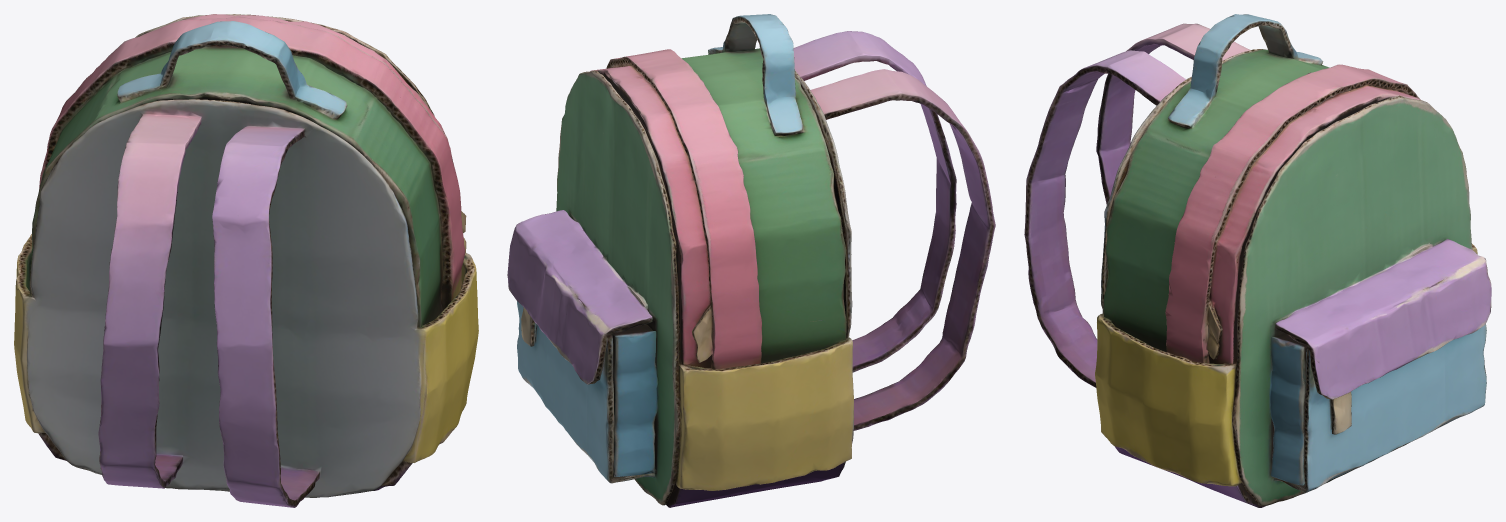
File: mochila 2.glb
The picture shows the model from 3 angles, left to right: view 1: azimuth 30°, elevation 25°; view 2: azimuth 150°, elevation 25°; view 3: azimuth 270°, elevation 25°; orthographic projection. The views are drawn at different scales.
Visible parts, largest first — view 1: vizcom_node_0; view 2: vizcom_node_0; view 3: vizcom_node_0.
Part boxes in pixels (x1,y1,x2,y2): vizcom_node_0: [14, 14, 478, 507]; vizcom_node_0: [507, 14, 995, 507]; vizcom_node_0: [1024, 14, 1491, 507].
Size of the model in its own units: 0.4384 by 0.45 by 0.464.
Materials: 1 (1 with a texture image).
